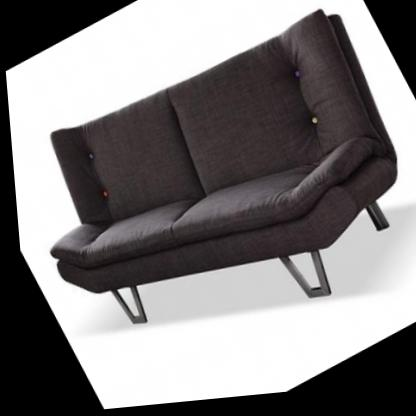Sofa: (1, 0, 416, 414)
